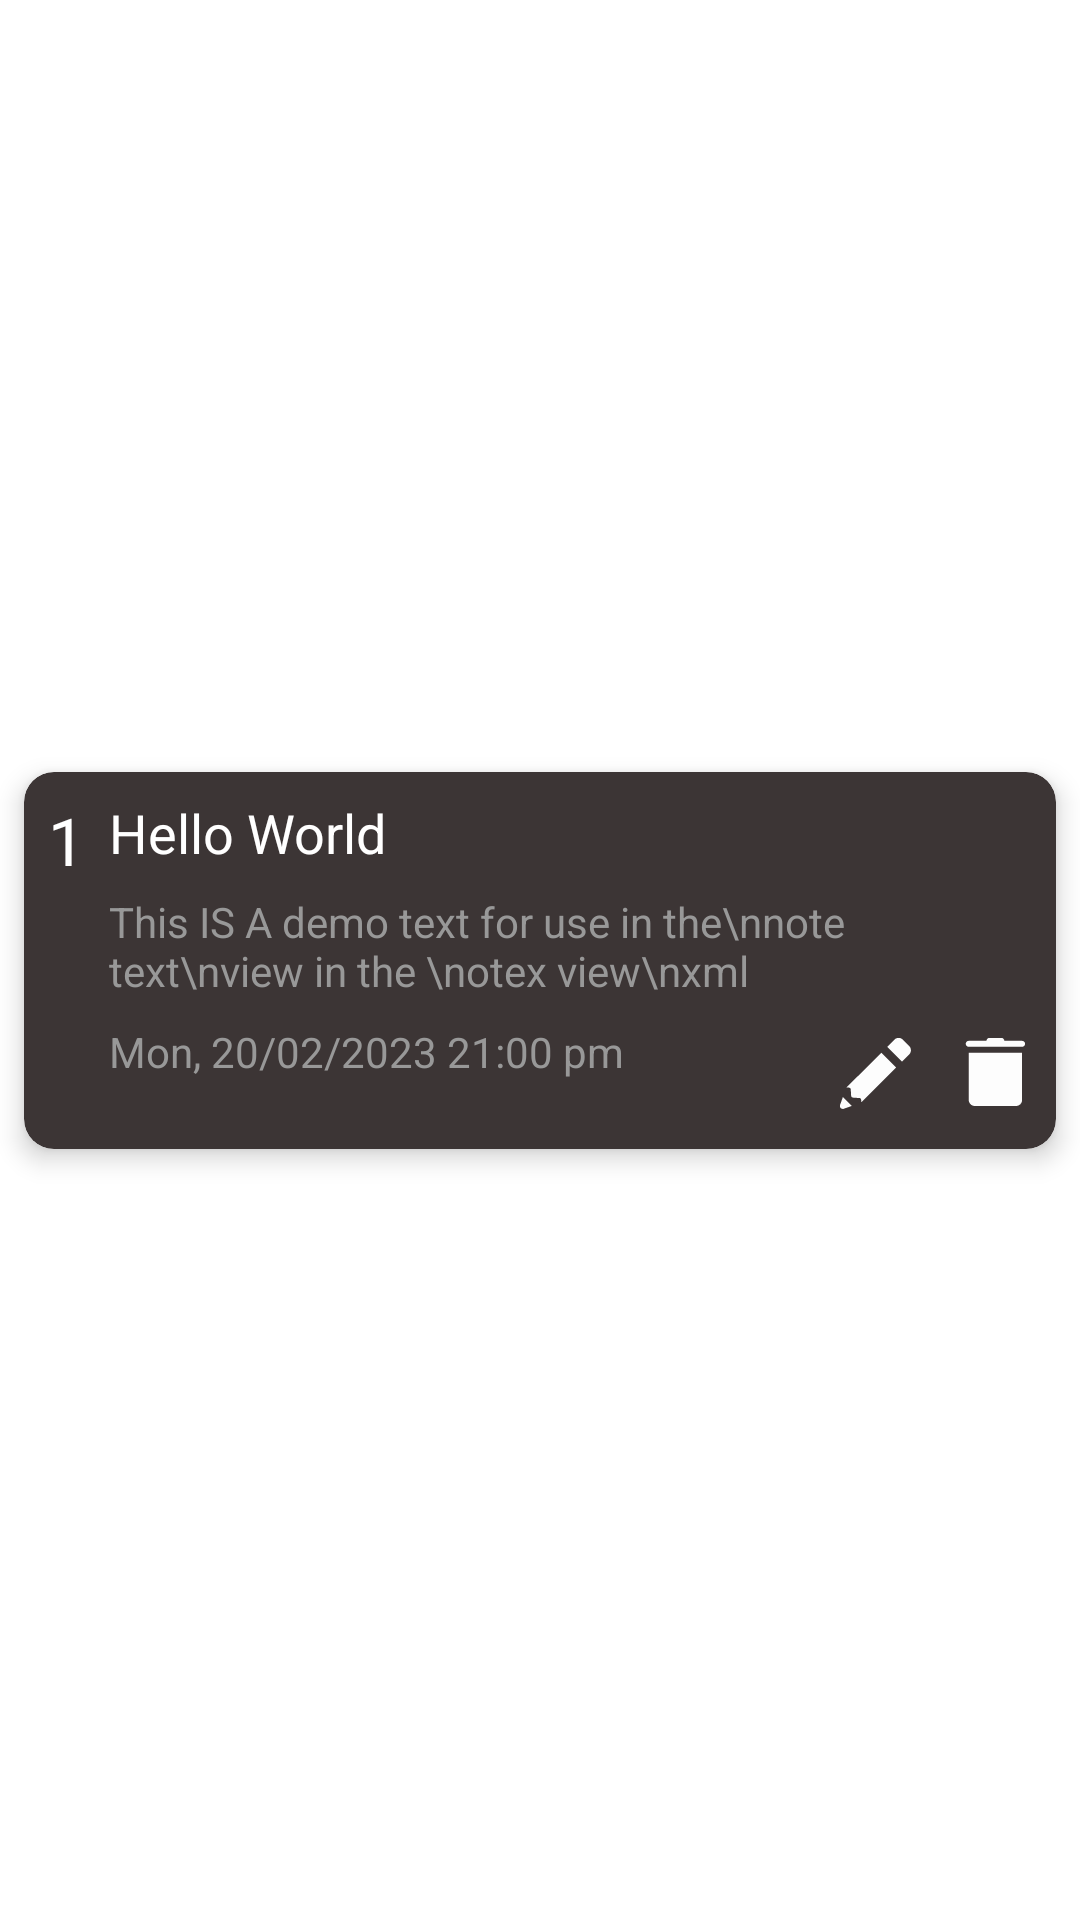

Named icons in this screenshot (1080w x 1920h) and their centers, [x,y]:
edit: [875,1073]
